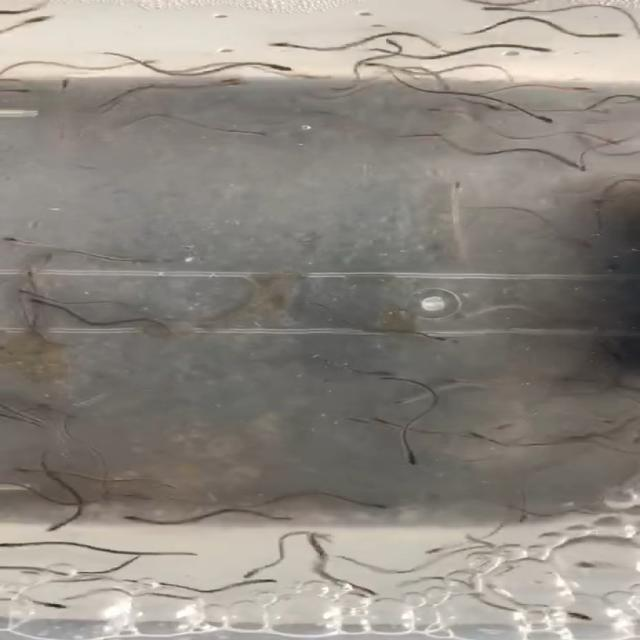active_glass_eel: (202, 73, 255, 90), (412, 328, 462, 346), (43, 76, 82, 99), (252, 59, 308, 75), (256, 37, 312, 53), (235, 559, 277, 580), (346, 584, 391, 603), (470, 0, 526, 15), (28, 596, 72, 614), (578, 26, 630, 41), (11, 13, 54, 31), (239, 572, 287, 588), (525, 108, 565, 127), (399, 443, 429, 468), (443, 179, 477, 201), (115, 52, 162, 67), (555, 607, 599, 623), (372, 35, 408, 54), (510, 506, 538, 530), (38, 517, 76, 534), (514, 39, 555, 54), (572, 153, 599, 174), (361, 363, 394, 380), (565, 234, 600, 250), (421, 544, 464, 557), (365, 412, 399, 428), (32, 252, 62, 270), (0, 85, 39, 98), (18, 287, 54, 301), (0, 231, 33, 246), (560, 82, 600, 94), (558, 156, 586, 173), (409, 131, 456, 141), (488, 420, 524, 433), (6, 462, 36, 477), (238, 126, 270, 140), (118, 513, 149, 527), (423, 105, 456, 118), (22, 267, 47, 284), (16, 294, 46, 308), (364, 501, 401, 512), (386, 396, 421, 406), (341, 416, 376, 426), (0, 537, 19, 554)
